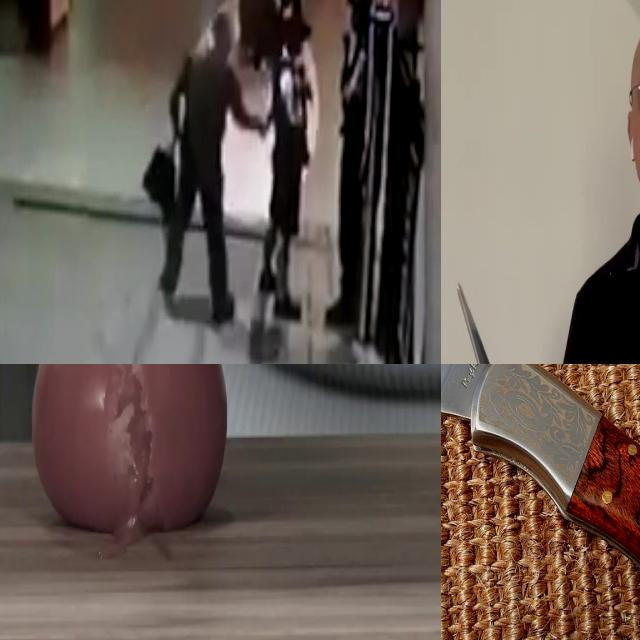Knife_Handle: (457, 282, 538, 364), (256, 112, 274, 136), (260, 110, 274, 136)
